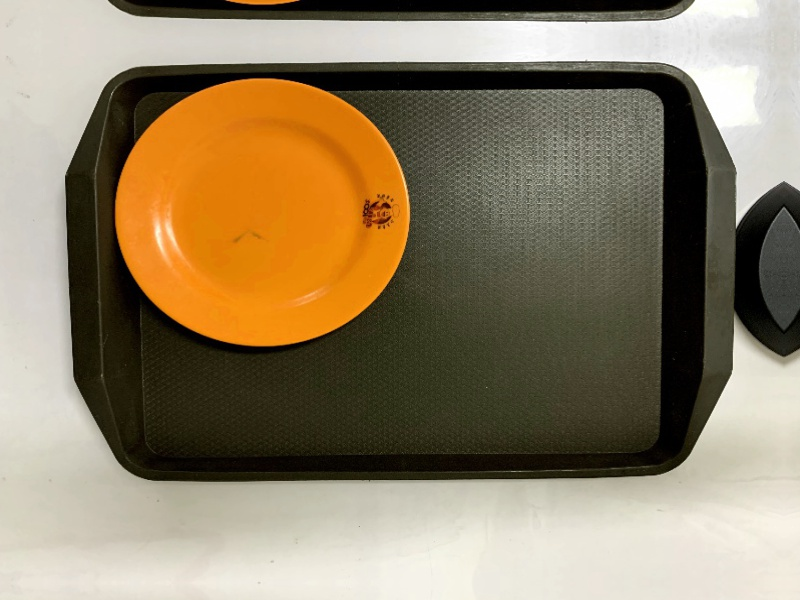dish10: (111, 77, 418, 355)
